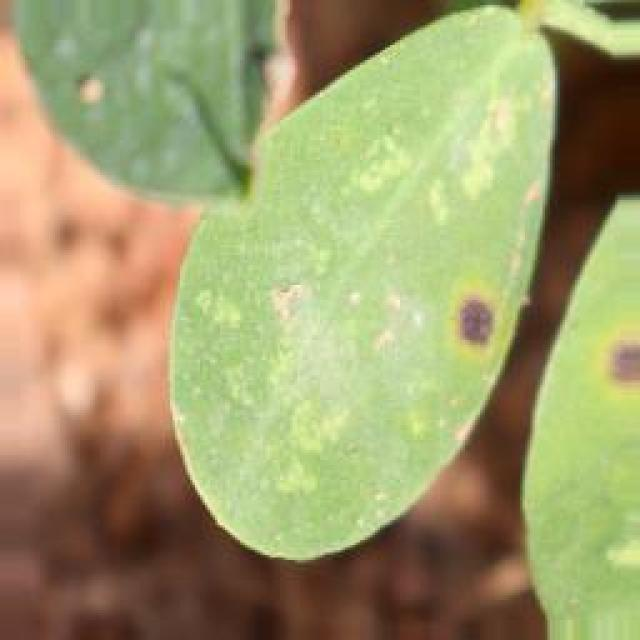Sigatoka: (413, 268, 491, 365), (562, 320, 640, 414), (62, 52, 123, 126)
